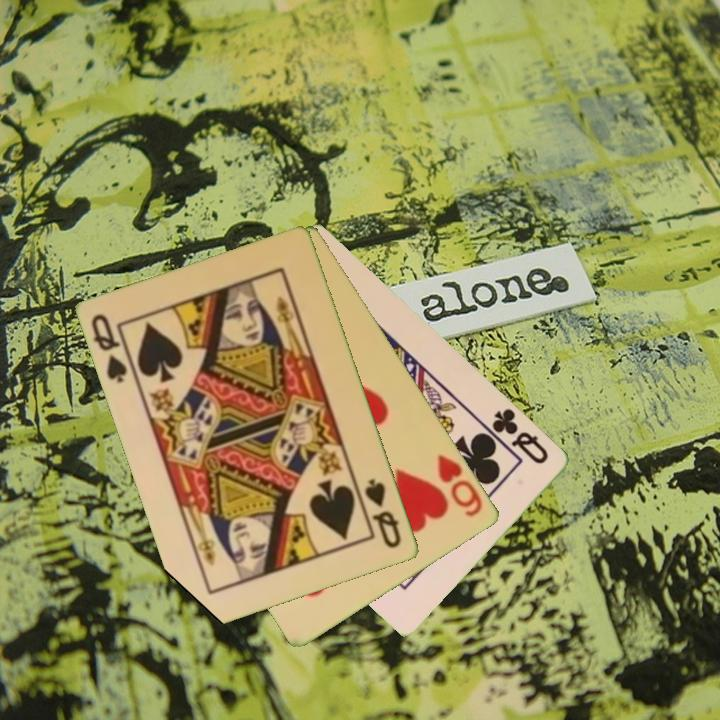6h: (434, 451, 486, 520)
Qc: (488, 404, 552, 467)
Qs: (361, 475, 405, 552), (88, 310, 131, 386)
